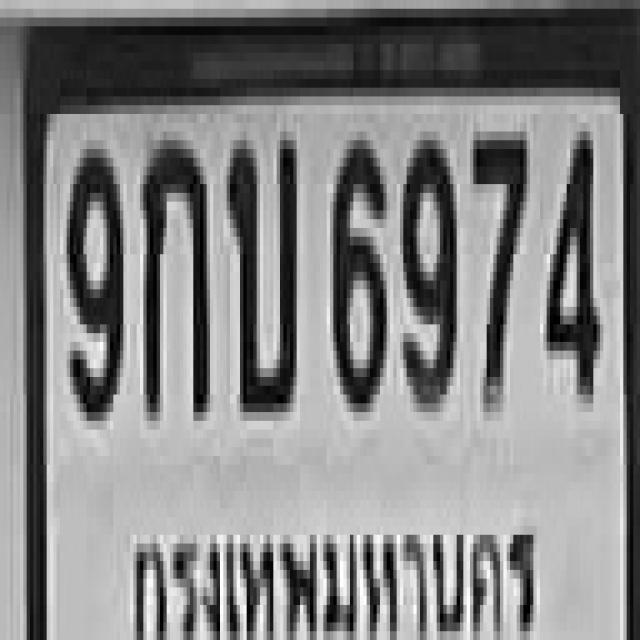10GorGai: (140, 132, 207, 412)
35BorBaiMai: (224, 132, 294, 404)
4: (543, 123, 597, 394)
6: (330, 132, 383, 404)
7: (470, 123, 523, 403)
9: (63, 140, 120, 412), (400, 132, 453, 404)
Bangkok: (123, 499, 539, 640)
